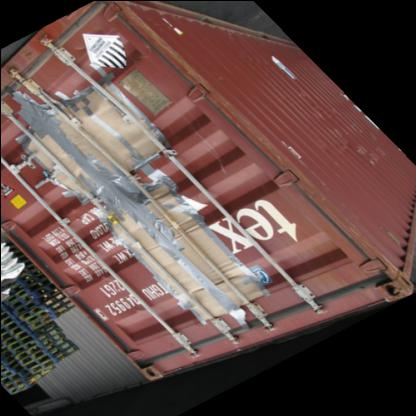Damage: (6, 81, 262, 320)
